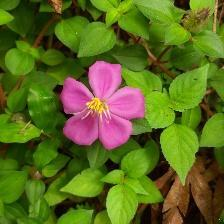malabar melastome: (60, 59, 149, 151)
